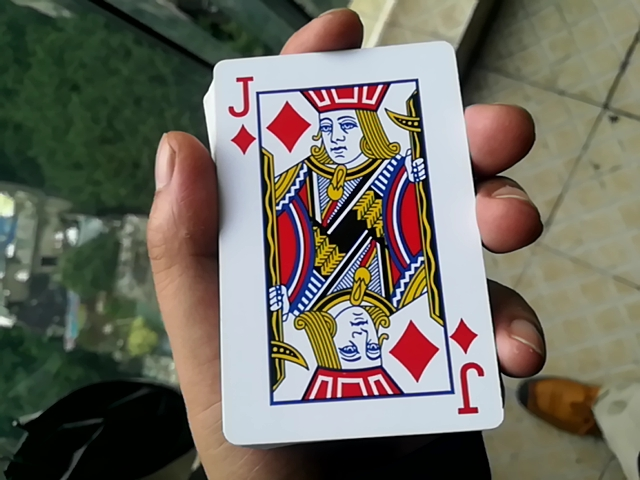fk j: (187, 46, 507, 438)
